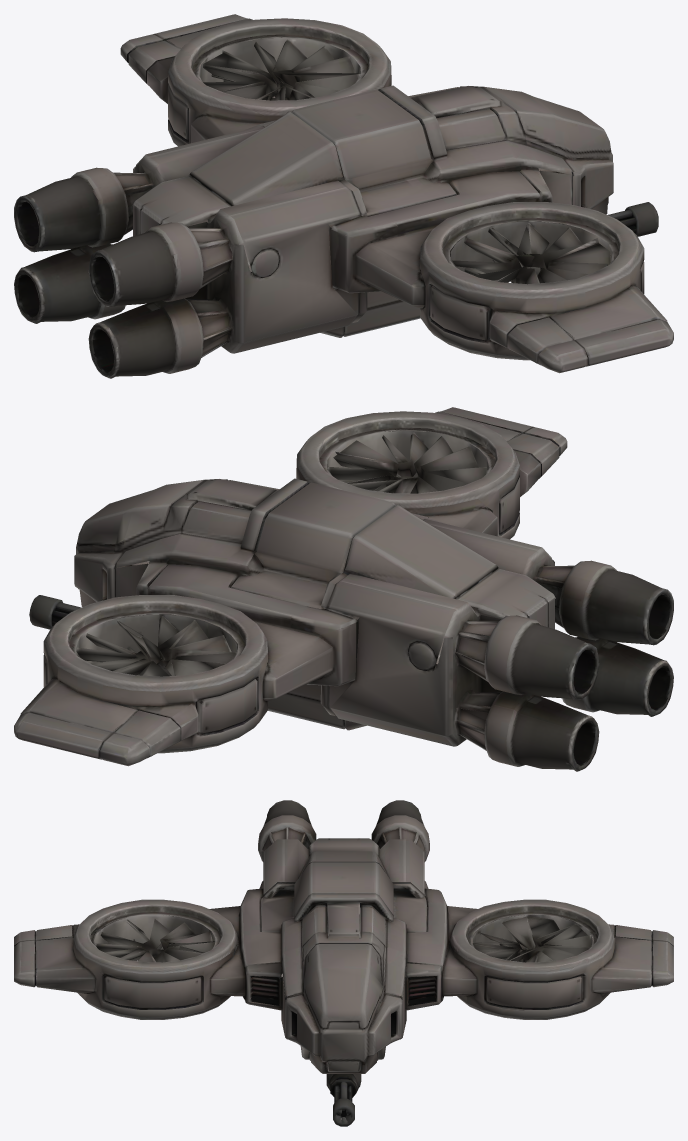
Rendered from 53715d5e-9b03-4cf0-80a6-4607f2c7143b-pbr_model.glb.
3 views of the same model, one above another, from view 1: azimuth 30°, elevation 25°; view 2: azimuth 150°, elevation 25°; view 3: azimuth 270°, elevation 25° (orthographic). The views are drawn at different scales.
Parts seen in each view (by area): view 1: tripo_node_53715d5e-9b03-4cf0-80a6-4607f2c7143b; view 2: tripo_node_53715d5e-9b03-4cf0-80a6-4607f2c7143b; view 3: tripo_node_53715d5e-9b03-4cf0-80a6-4607f2c7143b.
Part boxes in pixels (left/top/right/bottom): tripo_node_53715d5e-9b03-4cf0-80a6-4607f2c7143b: left=14, top=14, right=673, bottom=378; tripo_node_53715d5e-9b03-4cf0-80a6-4607f2c7143b: left=14, top=407, right=673, bottom=771; tripo_node_53715d5e-9b03-4cf0-80a6-4607f2c7143b: left=14, top=800, right=673, bottom=1126.
Size of the model in its own units: 0.773 by 0.2446 by 1.
1 material, 1 textured.
